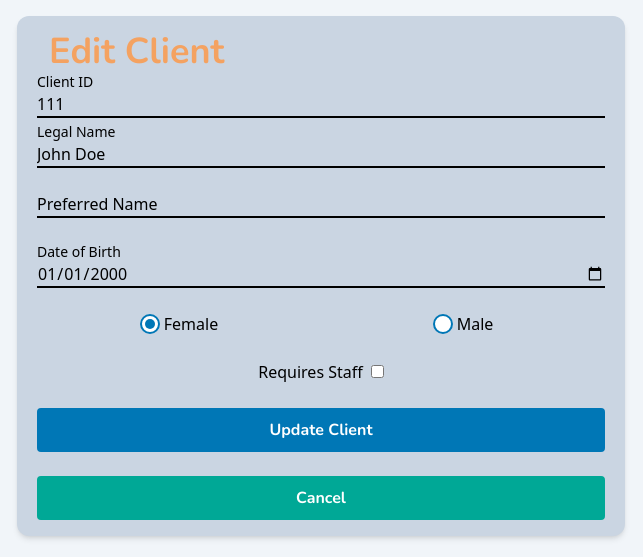
it: EditClientPage tests › should fail validation and show empty fields
The image size is (643, 557).
Clear the field labelled "Legal Name" at x=321, y=155, box [37,142,605,168]
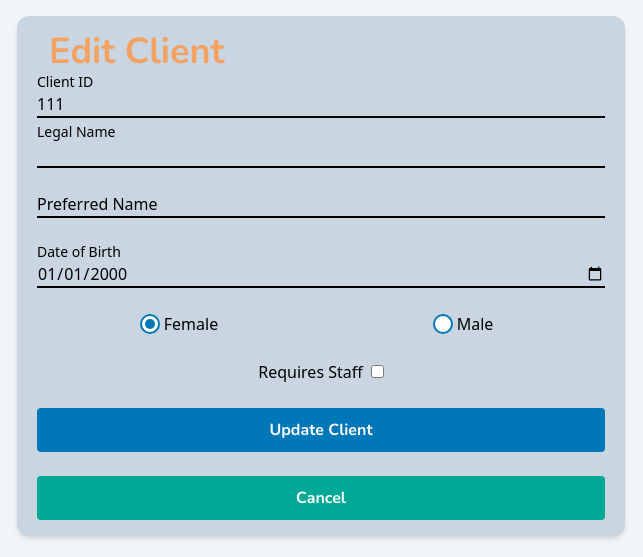
Clear the date field labelled "Date of Birth" at x=321, y=275, box [37,262,605,288]
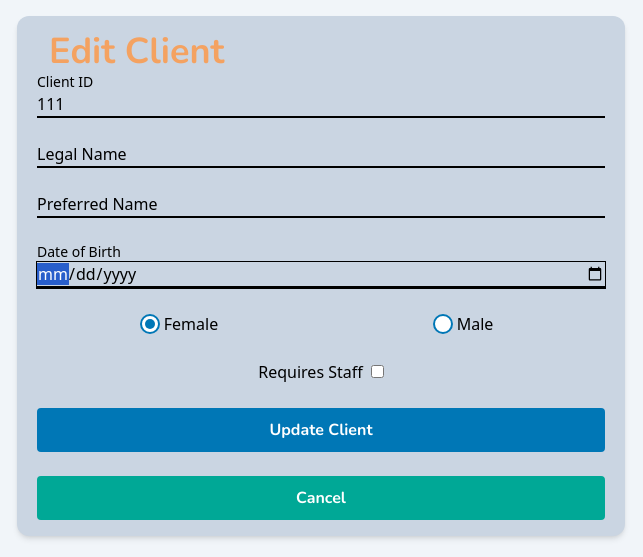
Click the button "Update Client" at x=321, y=430, box [37,408,605,452]
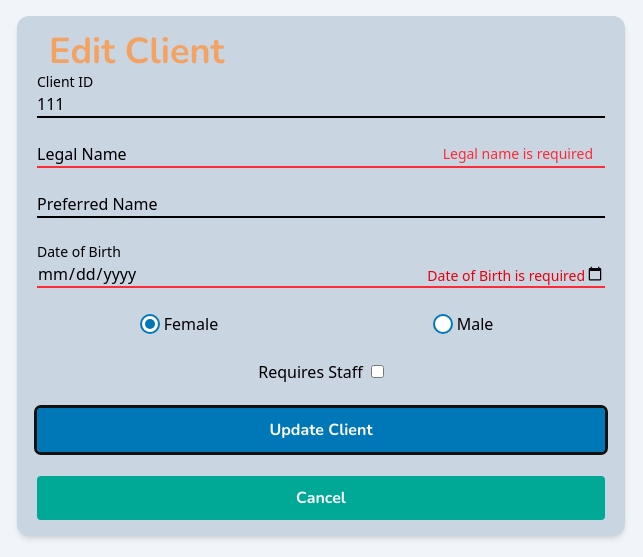
Expected: the text "Legal name is required" is shown, [443,144,593,164]
